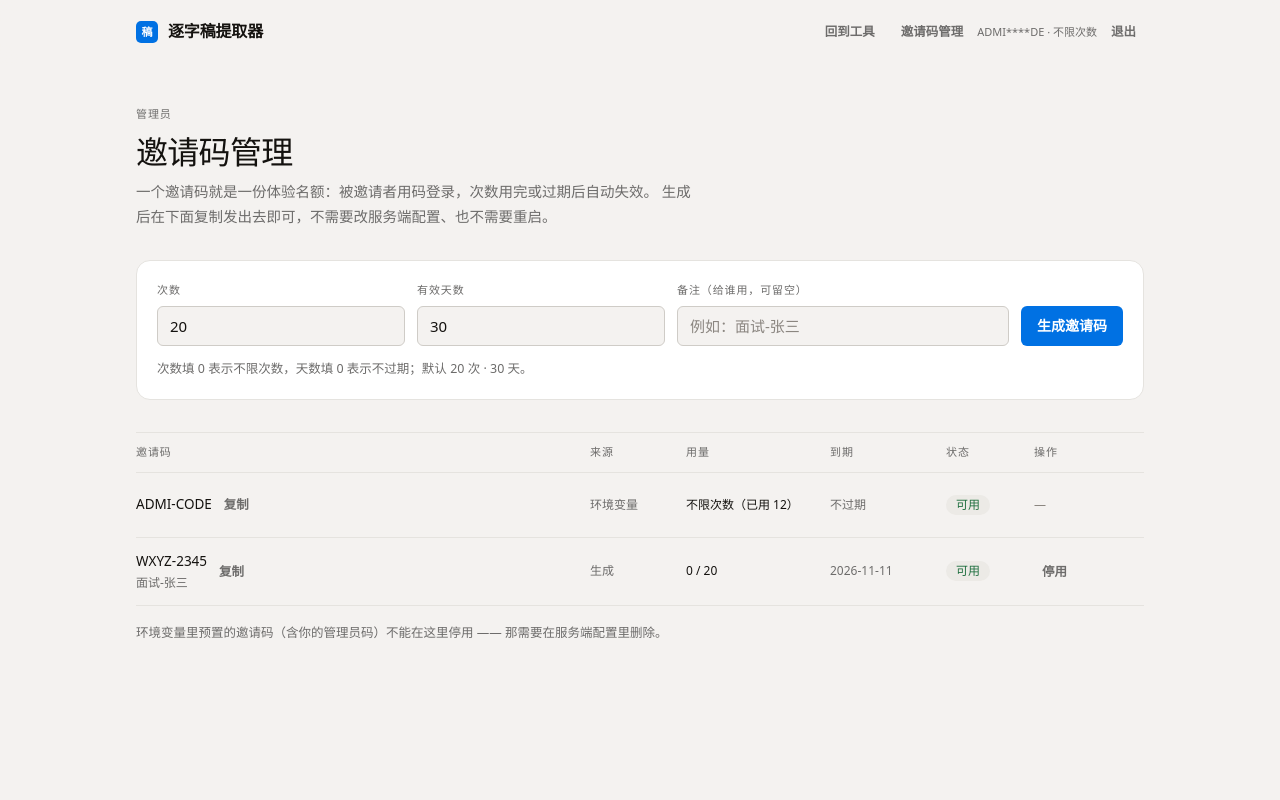
Test: 邀请码管理页 › 生成邀请码后显示刚生成的码并刷新列表
The width and height of the screenshot is (1280, 800).
Check: the text "WXYZ-2345" is shown, box [136,550,207,573]
Click the button "生成邀请码": [1072, 326] box [1021,306,1123,346]
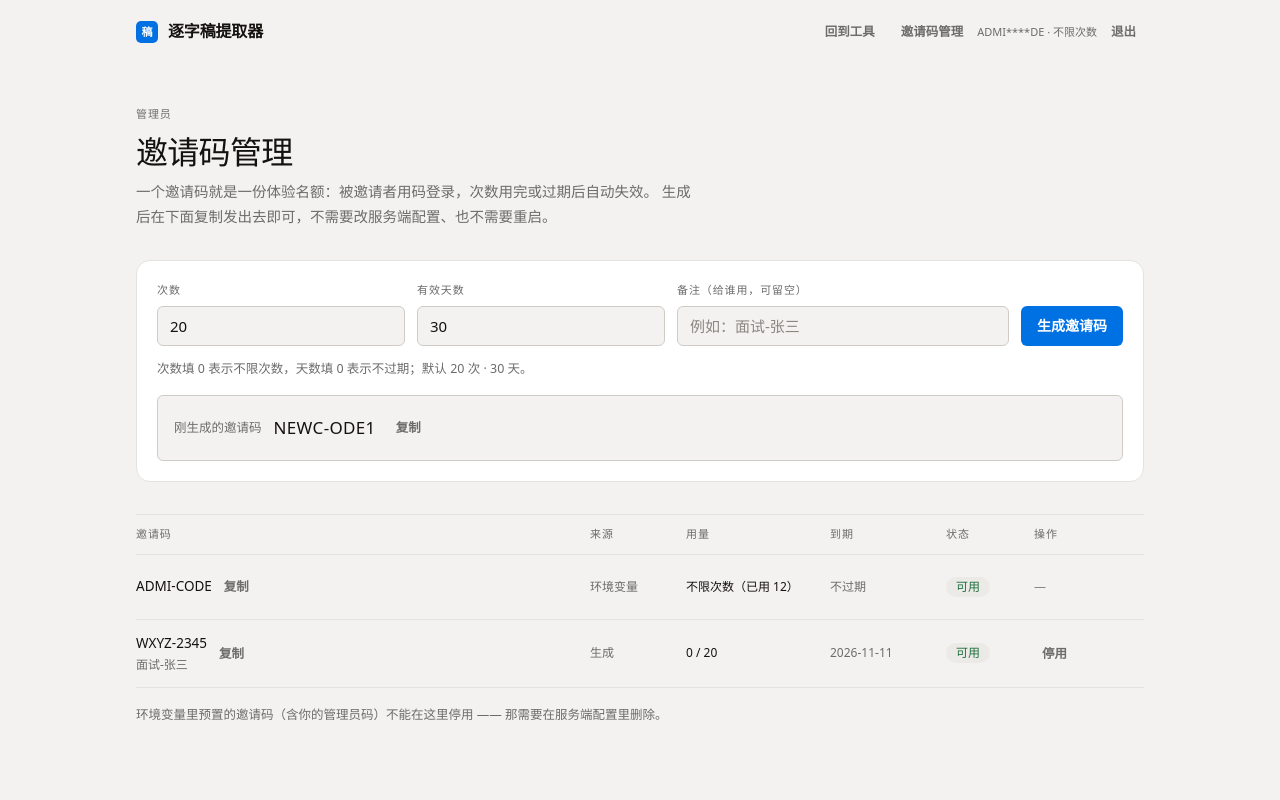
Check: the text "刚生成的邀请码" is shown, box [174,418,262,439]
Check: the text "NEWC-ODE1" is shown, box [274,414,376,442]
